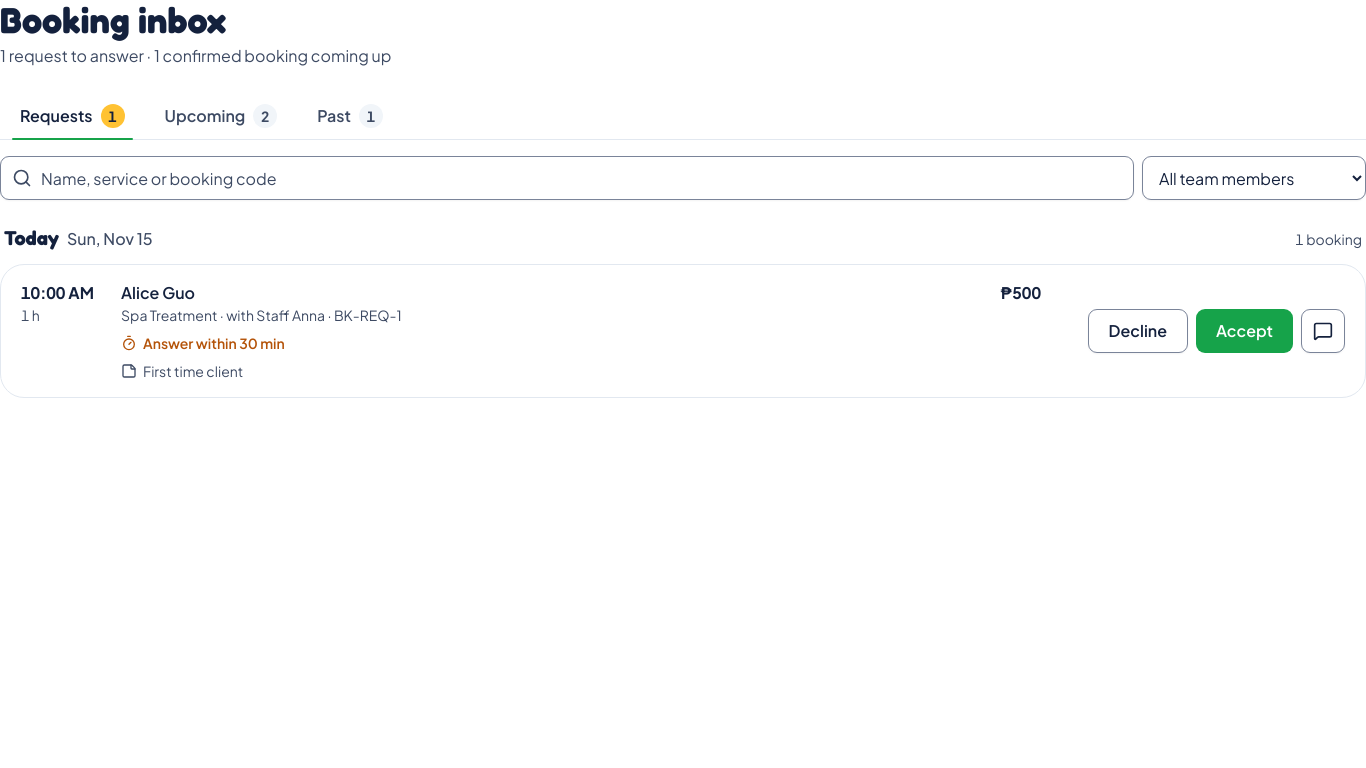
Test: BookingInbox › opens the booking's details from its row
Click the text "Alice Guo" at (158, 293), box [121,281,195,305]
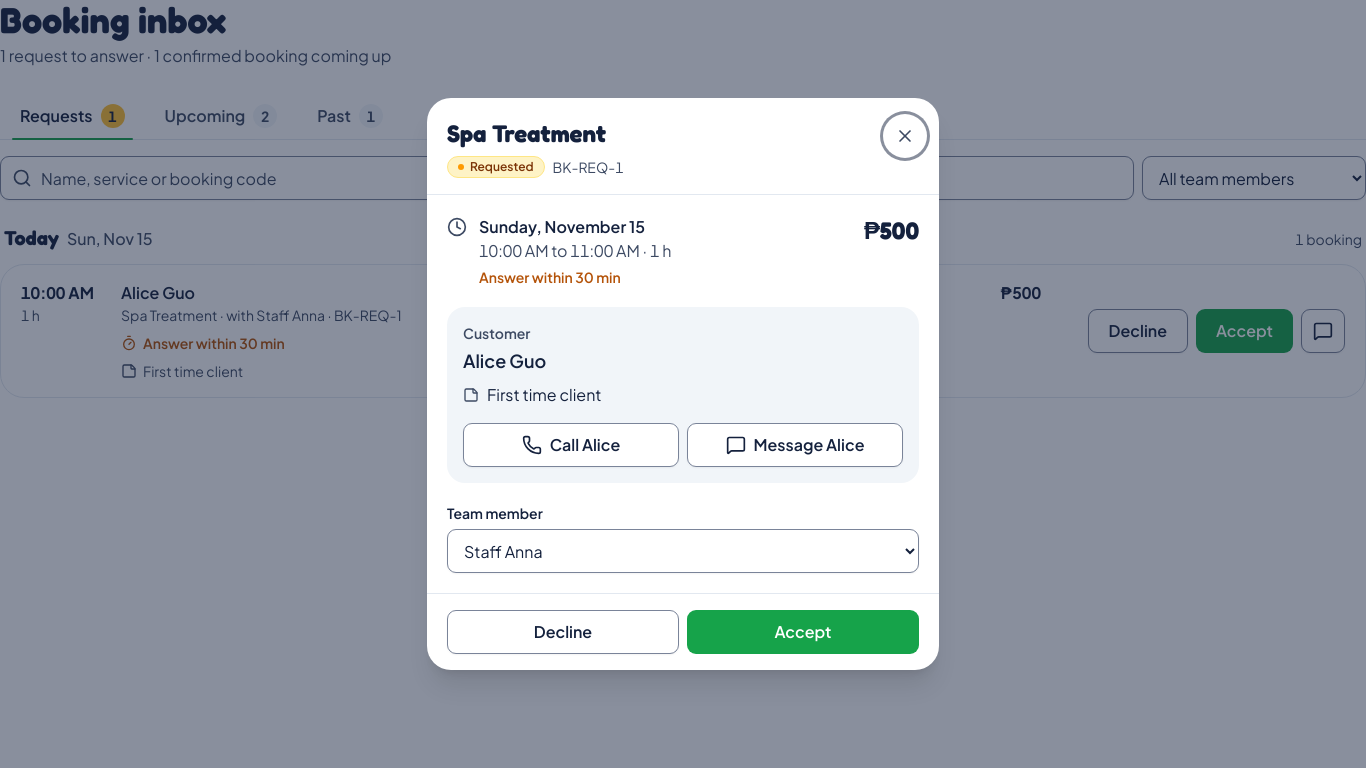
expect the text "BK-REQ-1" is shown: met, box [553,157,624,177]
expect the link "Message Alice" is shown: met, box [687,423,903,467]
